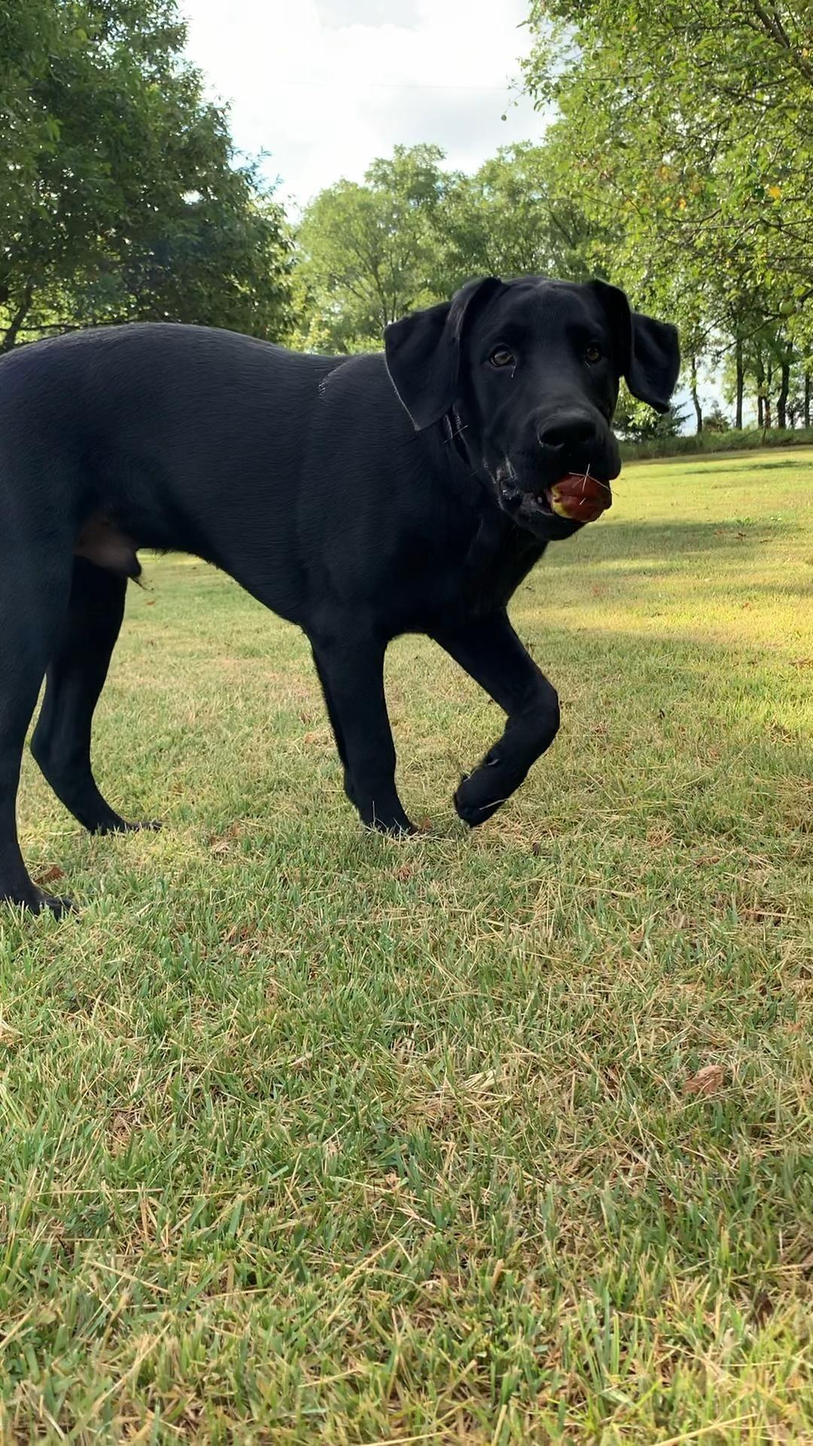adult_dog: (0, 270, 685, 920)
